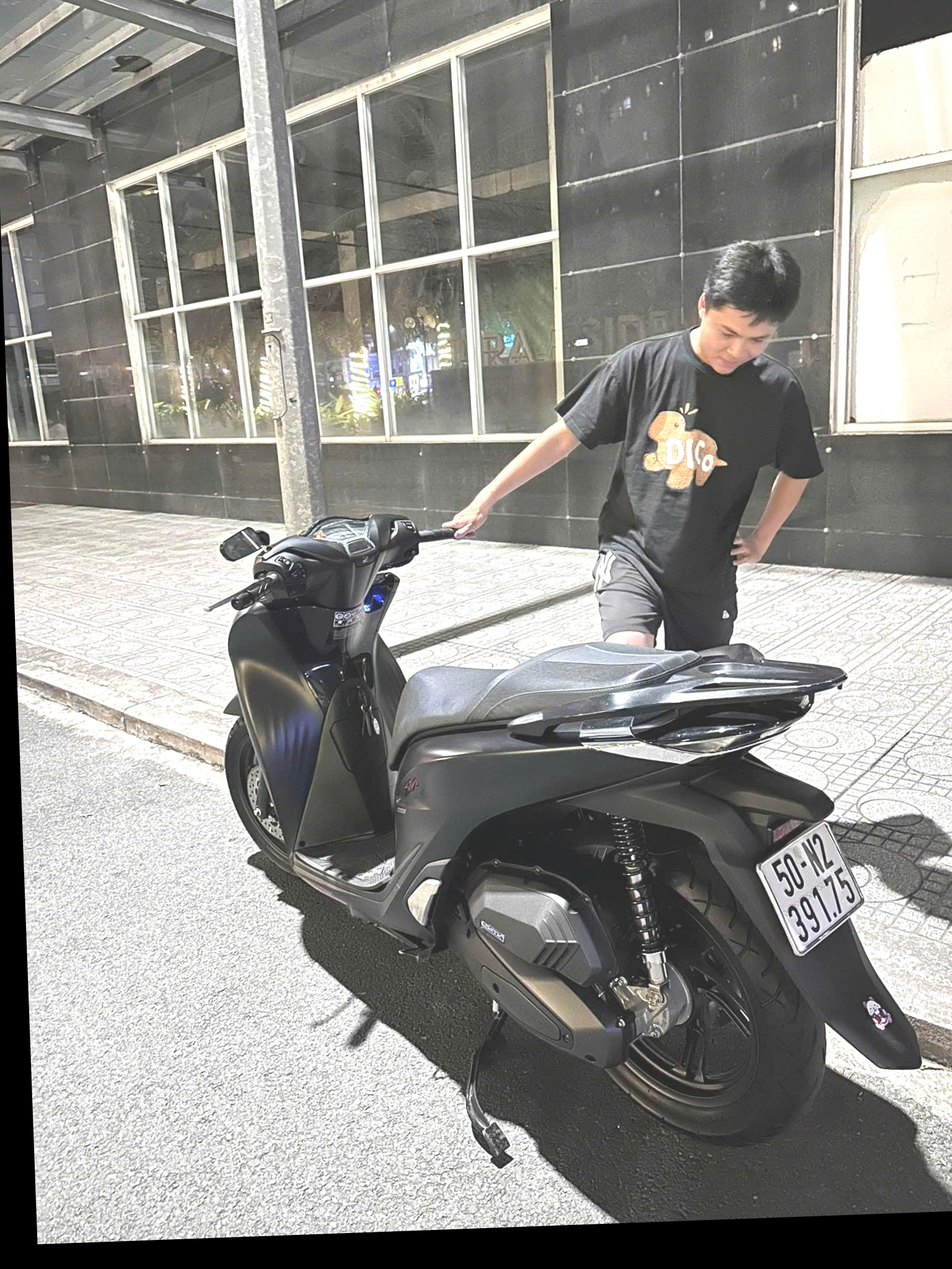Bien-so: (731, 877, 842, 1022)
